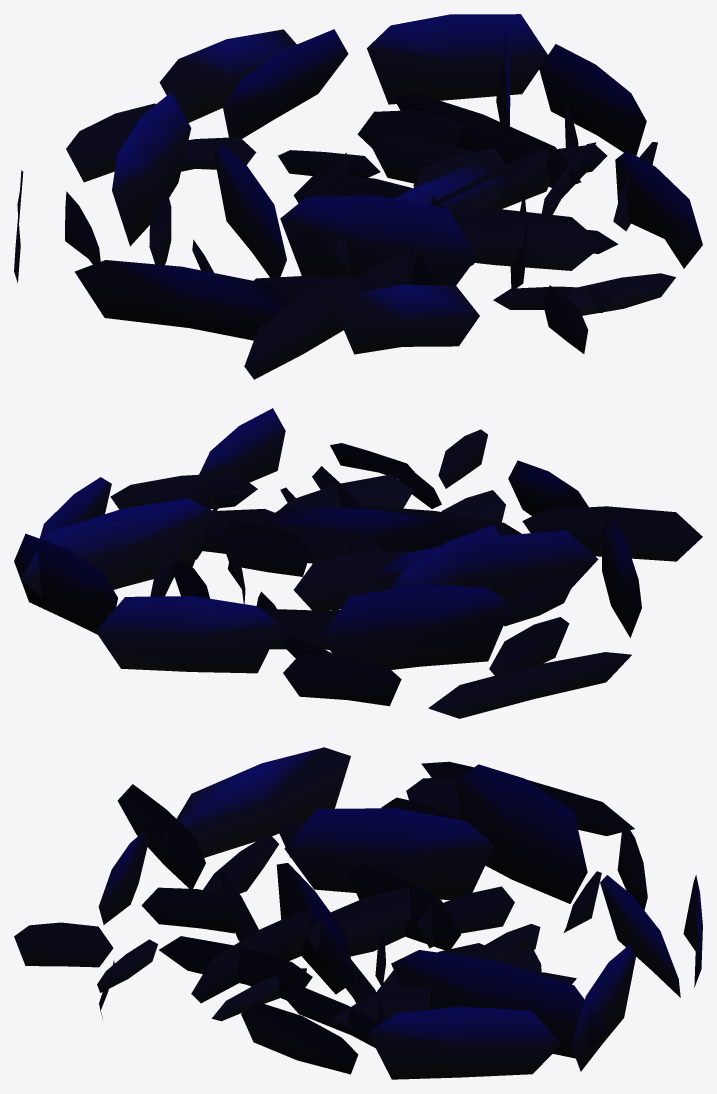
File: SM_Grass_XS_Patch_L_04.fbx
3 views of the same model, one above another, from view 1: azimuth 30°, elevation 25°; view 2: azimuth 150°, elevation 25°; view 3: azimuth 270°, elevation 25° (orthographic). The views are drawn at different scales.
Visible parts, largest first — view 1: SM_Grass_XS_Patch_L_04; view 2: SM_Grass_XS_Patch_L_04; view 3: SM_Grass_XS_Patch_L_04.
Boxes of the visible parts, x1,y1,x2,y2 form: SM_Grass_XS_Patch_L_04: (14,14,702,379); SM_Grass_XS_Patch_L_04: (14,408,702,718); SM_Grass_XS_Patch_L_04: (14,747,702,1079).
Bounding box in the file's own units: 196 × 194 × 30.41.
